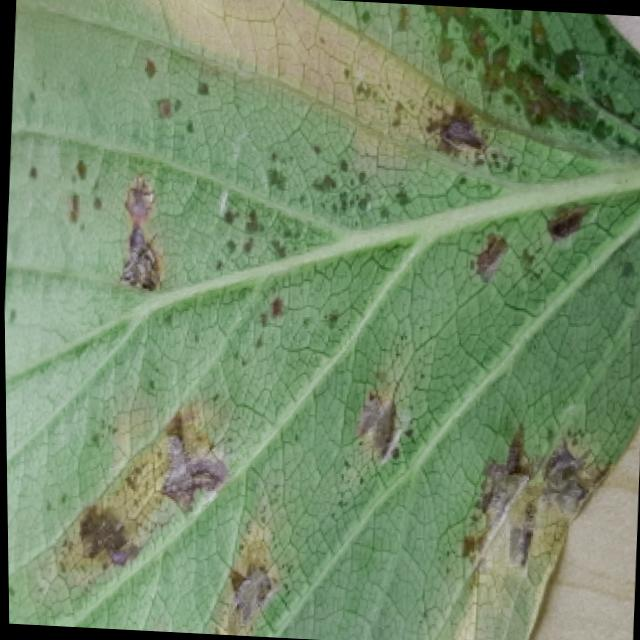Angular Leafspot: (4, 0, 640, 640)
